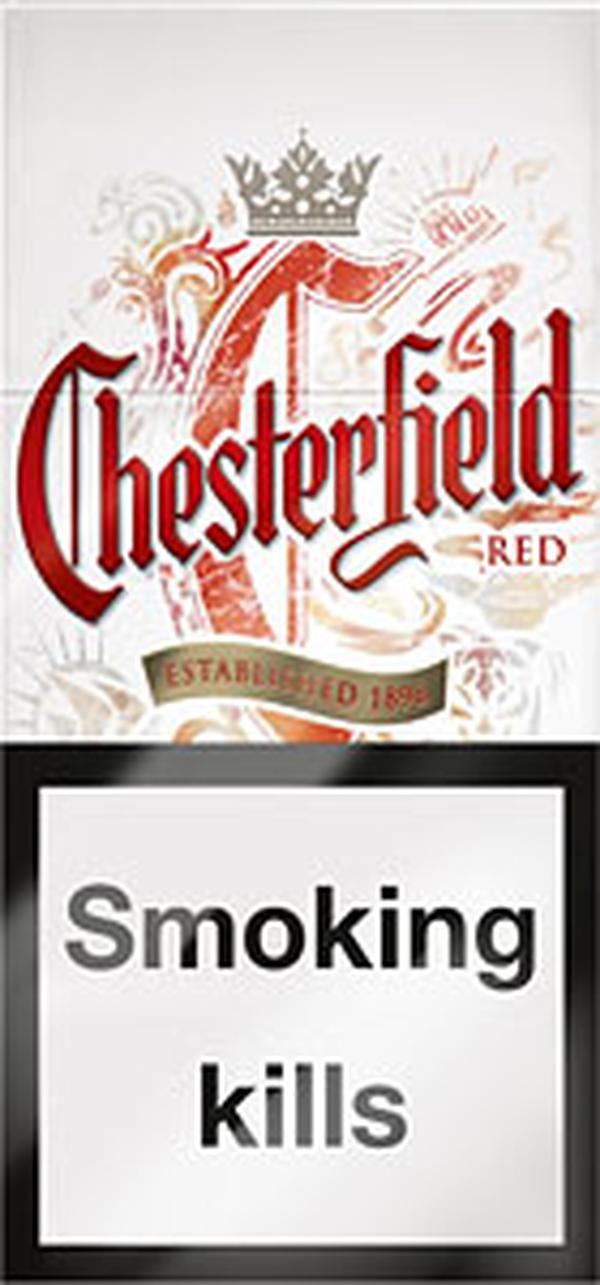chesterfield_red: (9, 15, 600, 1281)
